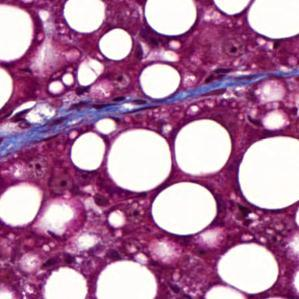steatosis: (238, 136, 299, 212), (108, 127, 172, 194), (150, 179, 217, 235), (144, 0, 199, 38), (0, 4, 35, 63), (140, 63, 181, 101), (70, 133, 105, 171), (100, 28, 133, 60), (212, 0, 252, 15)
